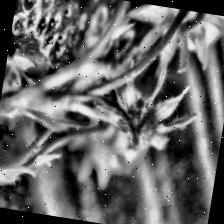Gray Mold: (86, 54, 206, 160)
